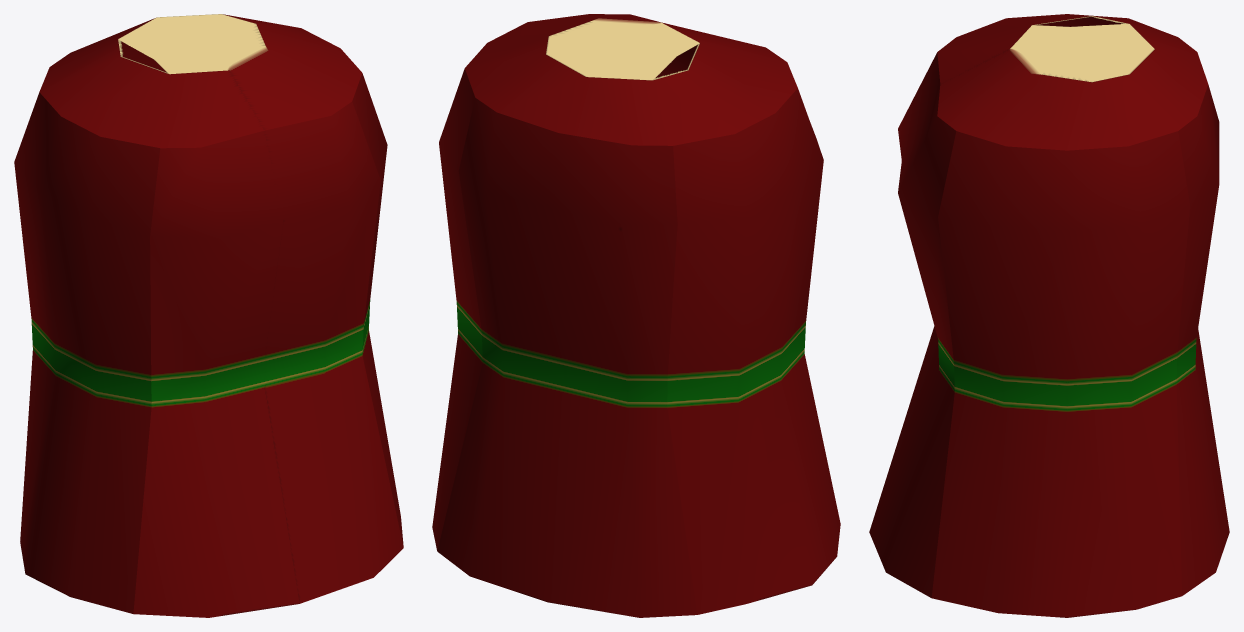
The model's file is yari_elf_body.obj.
3 renders of one model, left to right at view 1: azimuth 30°, elevation 25°; view 2: azimuth 150°, elevation 25°; view 3: azimuth 270°, elevation 25°, orthographic. The views are drawn at different scales.
Visible parts, largest first — view 1: pasted__pasted__pCube3 pasted__pasted__body_bow pasted__group1 b; view 2: pasted__pasted__pCube3 pasted__pasted__body_bow pasted__group1 b; view 3: pasted__pasted__pCube3 pasted__pasted__body_bow pasted__group1 b.
Part boxes in pixels (x1,y1,x2,y2): pasted__pasted__pCube3 pasted__pasted__body_bow pasted__group1 b: (14, 14, 403, 617); pasted__pasted__pCube3 pasted__pasted__body_bow pasted__group1 b: (432, 14, 840, 617); pasted__pasted__pCube3 pasted__pasted__body_bow pasted__group1 b: (869, 14, 1229, 617).
Bounding box in the file's own units: 1.26 × 1.66 × 1.12.
